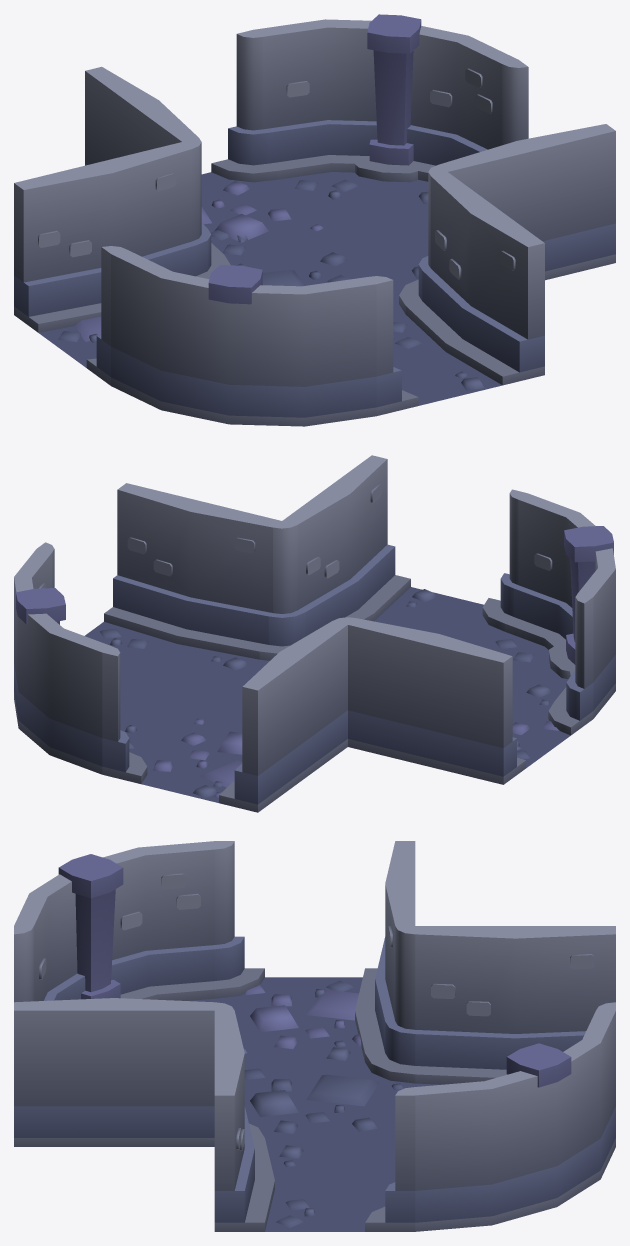
Rendered from room-small-variation.fbx.
3 renders of one model, top to bottom at view 1: azimuth 30°, elevation 25°; view 2: azimuth 150°, elevation 25°; view 3: azimuth 270°, elevation 25°, orthographic. The views are drawn at different scales.
Parts seen in each view (by area): view 1: room-small-variation; view 2: room-small-variation; view 3: room-small-variation.
Boxes of the visible parts, <box> form: room-small-variation: <box>14,14,615,426</box>; room-small-variation: <box>14,455,615,812</box>; room-small-variation: <box>14,841,615,1231</box>.
Size of the model in its own units: 1200 by 313 by 1200.
Materials: 1 (1 with a texture image).
